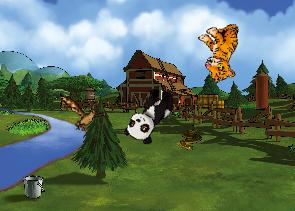eagle: (56, 93, 106, 133)
panda: (121, 81, 179, 148)
tiger: (192, 18, 253, 84)
